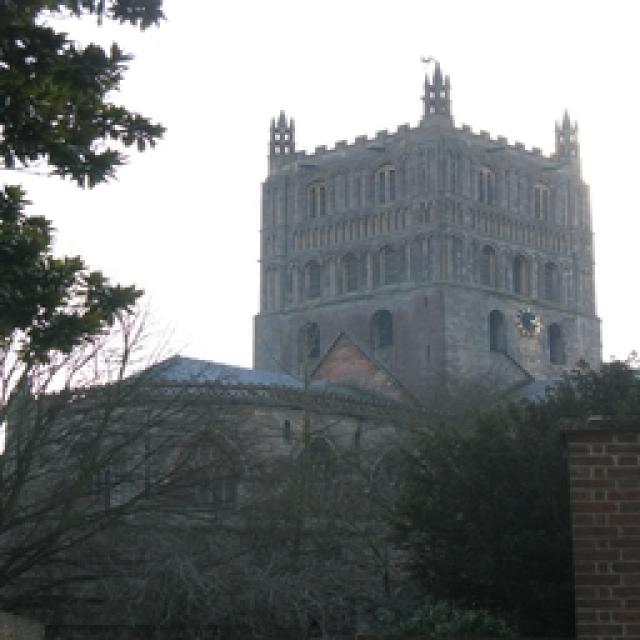Abbey: (266, 116, 589, 385)
